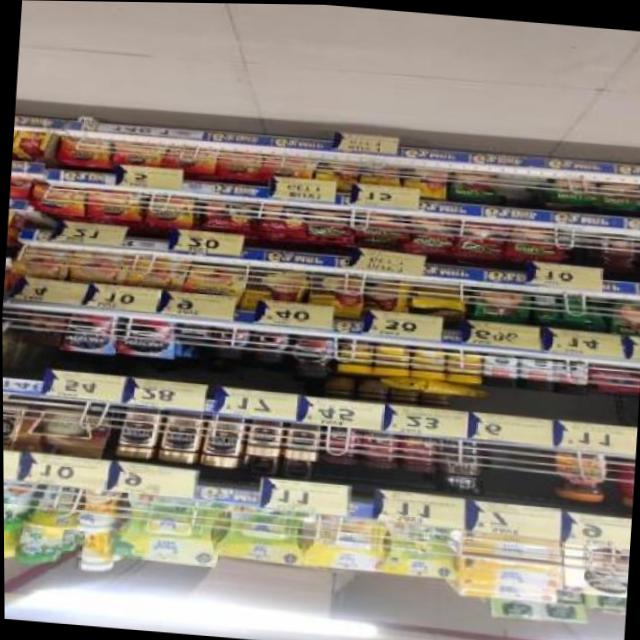Coffee: (553, 448, 606, 500), (9, 247, 72, 288), (70, 252, 131, 294), (187, 263, 243, 305), (129, 254, 186, 295), (116, 407, 157, 459), (120, 317, 173, 357), (288, 334, 337, 377), (62, 313, 114, 353), (202, 414, 239, 466), (161, 410, 198, 462), (147, 193, 193, 225), (33, 184, 83, 213), (89, 191, 137, 221), (60, 136, 106, 166), (284, 421, 318, 460), (247, 417, 281, 455), (216, 149, 261, 177), (166, 146, 211, 171), (250, 331, 287, 361), (263, 155, 311, 178), (116, 142, 159, 167), (214, 325, 248, 356), (175, 324, 210, 342)
